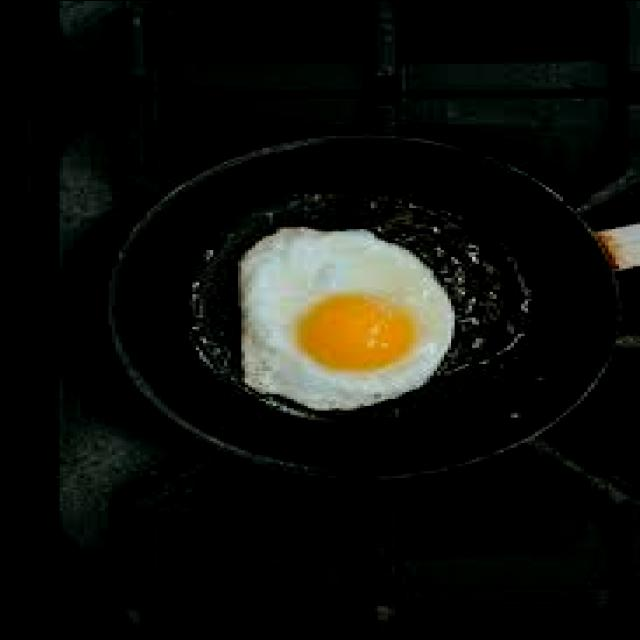telur ceplok: (241, 226, 458, 410)
